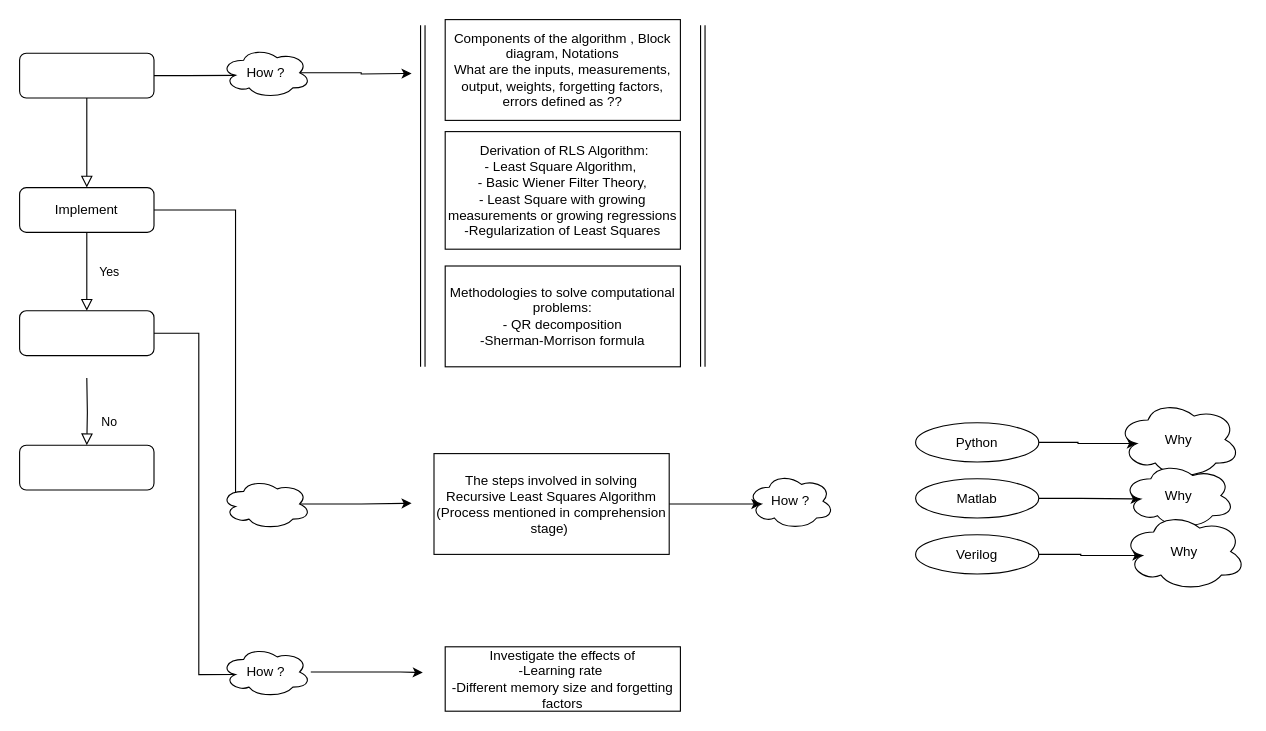
Image size: 1266x731. Some labels were removed from this diagram. The shapes that lost their labels are listed below. From the top down, each one's centre as x and y in pixels, then its label:
At (86,75): "Comprehend the RLS Algorithm".
At (86,333): "Evaluate the results".
At (86,467): "Repair Lamp".
At (265,503): "What ?".
